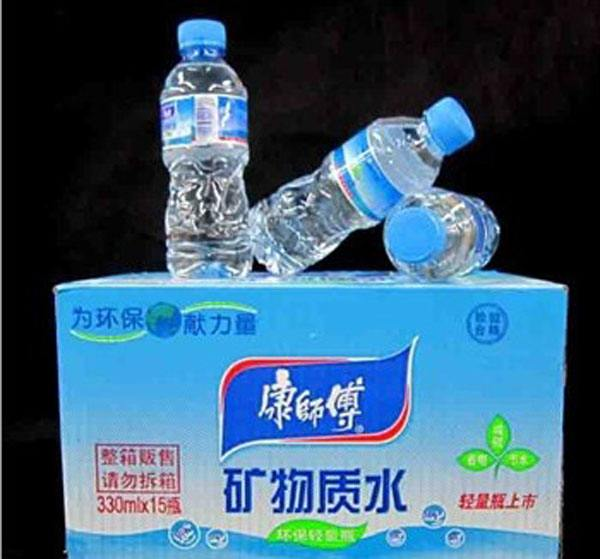amwater: (252, 77, 500, 291), (153, 14, 266, 283)
